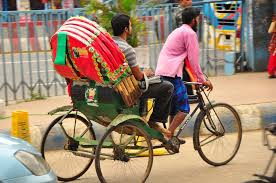Rickshaw: (36, 10, 243, 172)
